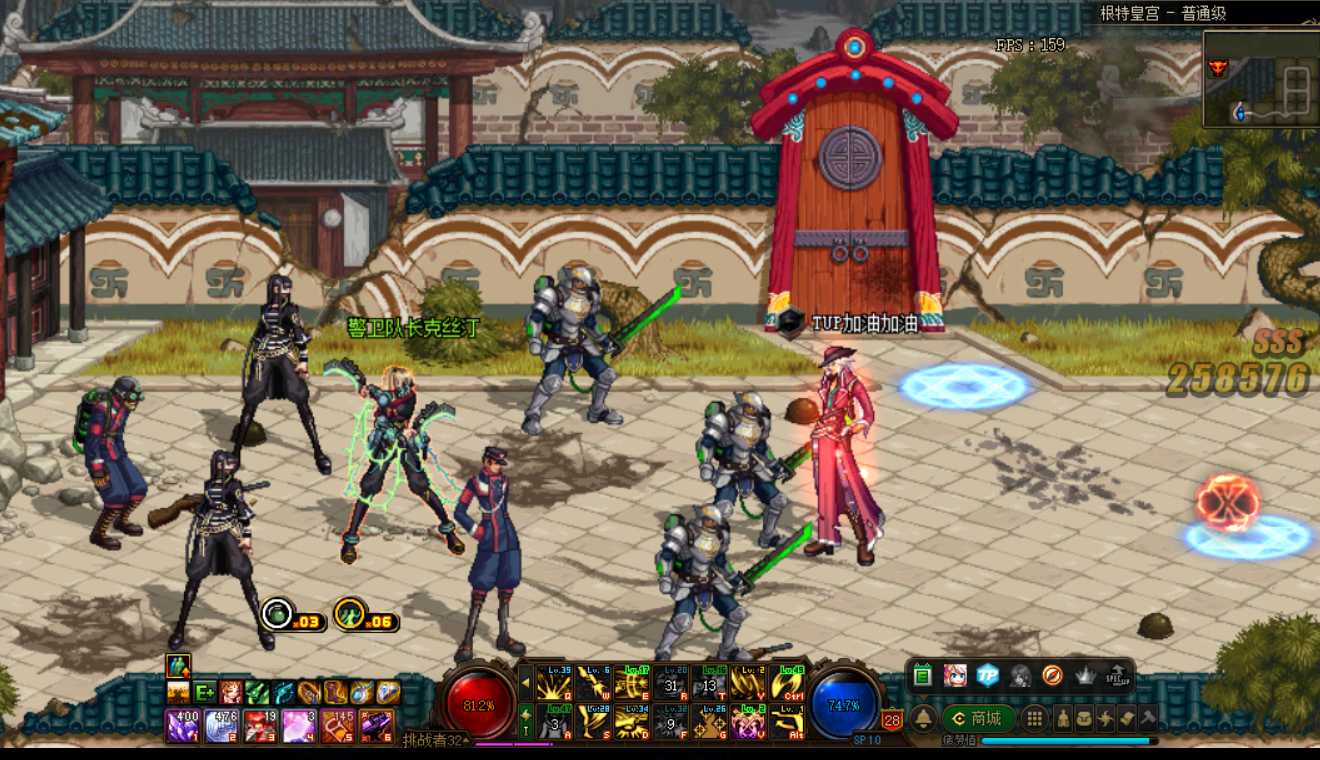monster: (329, 354, 472, 559), (639, 488, 808, 660), (514, 256, 676, 428), (168, 454, 287, 661), (680, 383, 817, 562), (442, 437, 548, 659), (240, 274, 326, 474), (67, 361, 157, 544)
warrior: (792, 339, 899, 575)
